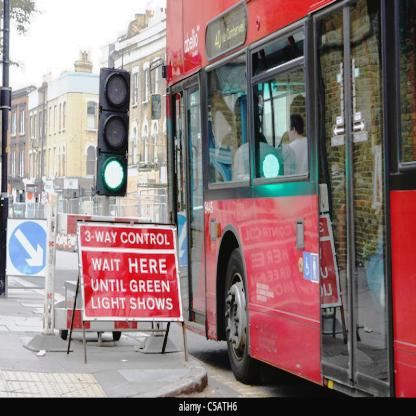Keep right: (5, 214, 47, 277)
